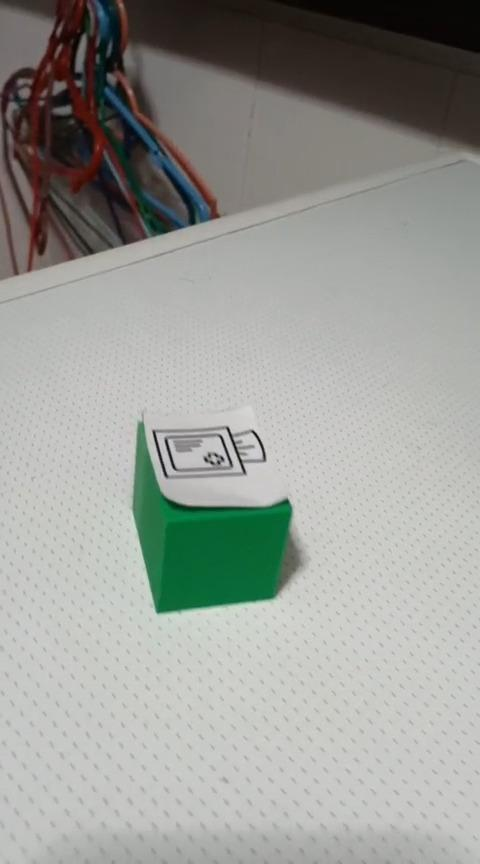Gauze: (130, 403, 293, 614)
